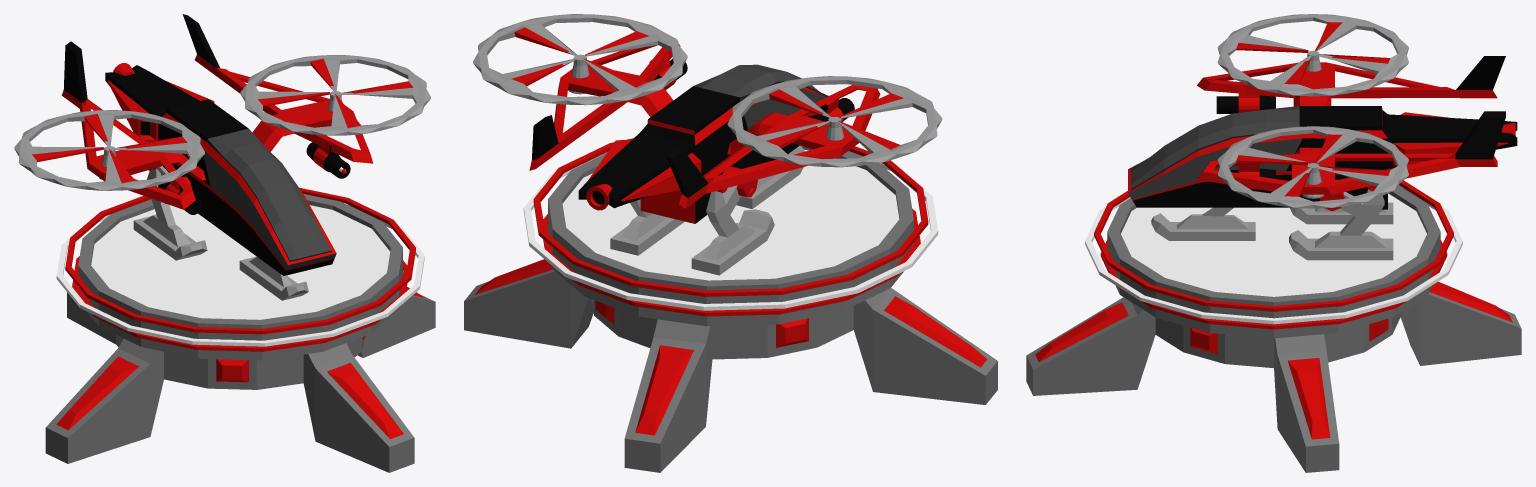
Rendered from FlightA_01.fbx.
3 renders of one model, left to right at view 1: azimuth 30°, elevation 25°; view 2: azimuth 150°, elevation 25°; view 3: azimuth 270°, elevation 25°, orthographic. The views are drawn at different scales.
Visible parts, largest first — view 1: FlightBase, Heli, PropellerL, PropellerR, FlightBaseRing2, FlightBaseRing1, FlightBaseRing3; view 2: FlightBase, Heli, PropellerL, PropellerR, FlightBaseRing2, FlightBaseRing1, FlightBaseRing3; view 3: FlightBase, Heli, PropellerL, PropellerR, FlightBaseRing2, FlightBaseRing1, FlightBaseRing3.
Boxes of the visible parts, x1=… form: FlightBase: x1=45, y1=194, x2=435, y2=472; Heli: x1=61, y1=14, x2=373, y2=300; PropellerL: x1=240, y1=55, x2=430, y2=135; PropellerR: x1=14, y1=110, x2=204, y2=190; FlightBaseRing2: x1=65, y1=187, x2=415, y2=334; FlightBaseRing1: x1=56, y1=203, x2=424, y2=346; FlightBaseRing3: x1=72, y1=256, x2=407, y2=351; FlightBase: x1=464, y1=145, x2=997, y2=472; Heli: x1=529, y1=44, x2=880, y2=275; PropellerL: x1=473, y1=14, x2=687, y2=105; PropellerR: x1=727, y1=76, x2=942, y2=167; FlightBaseRing2: x1=533, y1=138, x2=928, y2=296; FlightBaseRing1: x1=523, y1=152, x2=938, y2=310; FlightBaseRing3: x1=543, y1=209, x2=920, y2=316; FlightBase: x1=1026, y1=186, x2=1521, y2=472; Heli: x1=1128, y1=56, x2=1517, y2=260; PropellerL: x1=1217, y1=126, x2=1408, y2=208; PropellerR: x1=1217, y1=14, x2=1408, y2=96; FlightBaseRing2: x1=1094, y1=180, x2=1453, y2=311; FlightBaseRing1: x1=1085, y1=185, x2=1462, y2=324; FlightBaseRing3: x1=1100, y1=240, x2=1447, y2=329.
Size of the model in its own units: 1159 by 735 by 1159.
